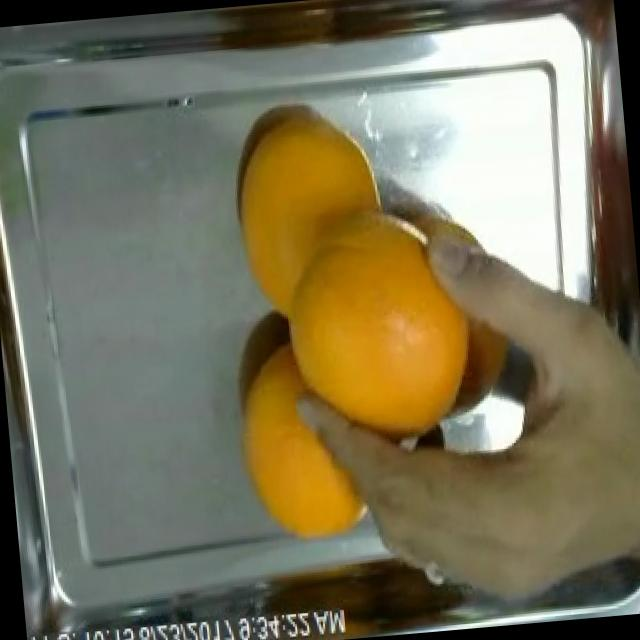Fruit: (223, 371, 381, 568), (619, 551, 640, 614)
